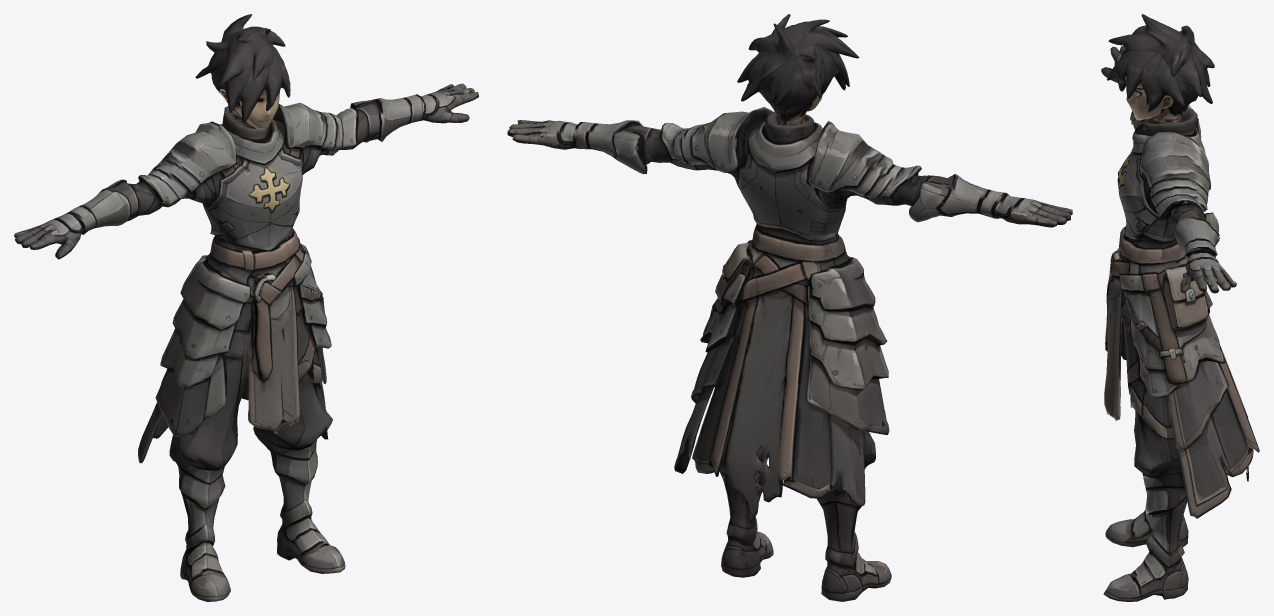
3 views of the same model, side by side, from view 1: azimuth 30°, elevation 25°; view 2: azimuth 150°, elevation 25°; view 3: azimuth 270°, elevation 25° (orthographic). The views are drawn at different scales.
Parts seen in each view (by area): view 1: tripo_node_37d8b22f-0d33-4a2b-b03e-27308db3e6df; view 2: tripo_node_37d8b22f-0d33-4a2b-b03e-27308db3e6df; view 3: tripo_node_37d8b22f-0d33-4a2b-b03e-27308db3e6df.
Boxes of the visible parts, x1,y1,x2,y2 form: tripo_node_37d8b22f-0d33-4a2b-b03e-27308db3e6df: (14,14,478,601); tripo_node_37d8b22f-0d33-4a2b-b03e-27308db3e6df: (507,14,1072,601); tripo_node_37d8b22f-0d33-4a2b-b03e-27308db3e6df: (1101,14,1259,601).
Size of the model in its own units: 0.938 by 0.9764 by 0.257.
1 material, 1 textured.
